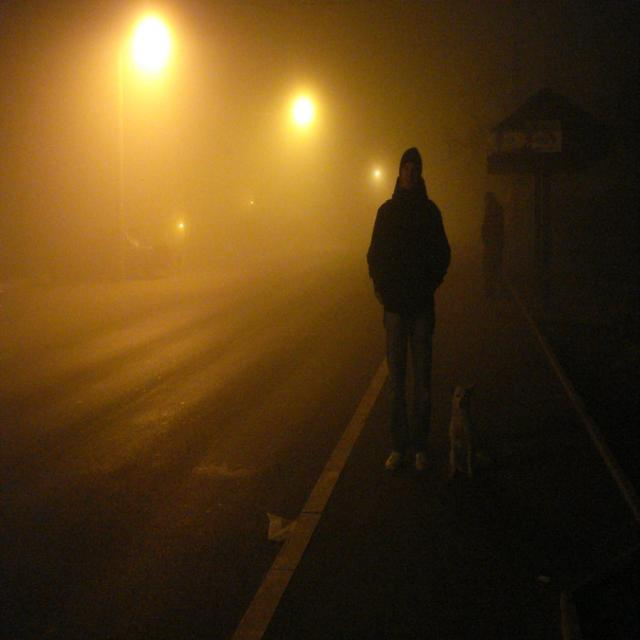Dog: (432, 378, 516, 508)
